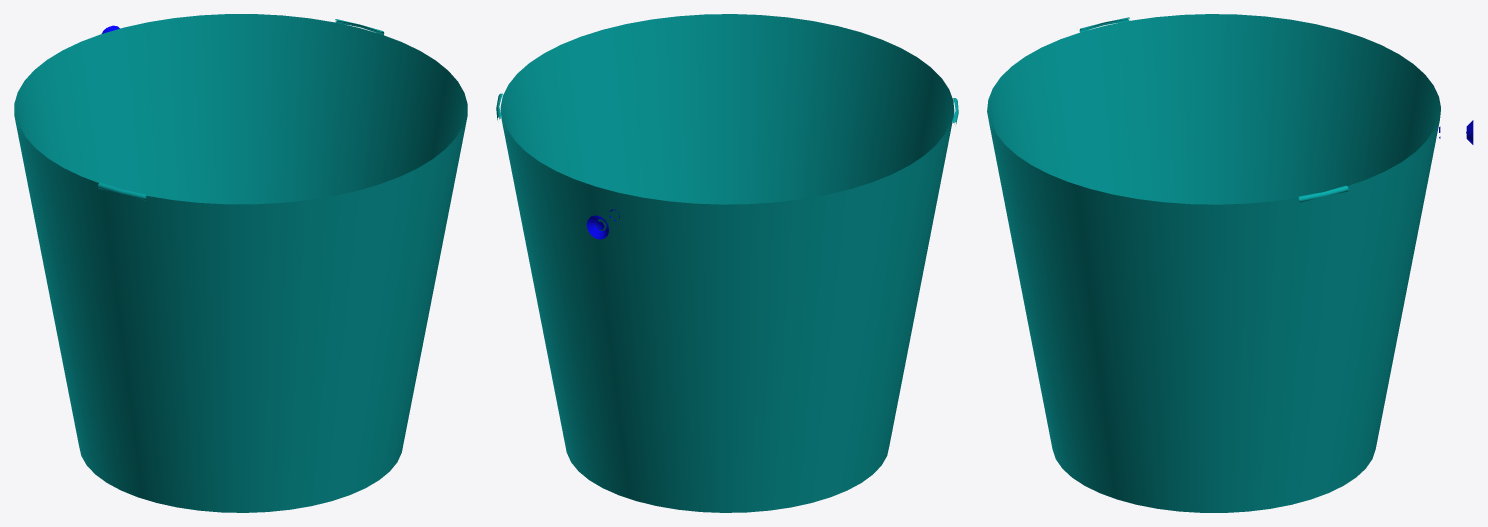
3 views of the same model, side by side, from view 1: azimuth 30°, elevation 25°; view 2: azimuth 150°, elevation 25°; view 3: azimuth 270°, elevation 25° (orthographic).
Parts seen in each view (by area): view 1: F19732000122019015600_001_zb_gestell_fa~1; view 2: F19732000122019015600_001_zb_gestell_fa~1; view 3: F19732000122019015600_001_zb_gestell_fa~1.
Part boxes in pixels (bbox=[...]): F19732000122019015600_001_zb_gestell_fa~1: bbox=[14, 14, 467, 512]; F19732000122019015600_001_zb_gestell_fa~1: bbox=[496, 14, 958, 512]; F19732000122019015600_001_zb_gestell_fa~1: bbox=[987, 14, 1440, 512].
Size of the model in its own units: 209 by 224 by 171.
